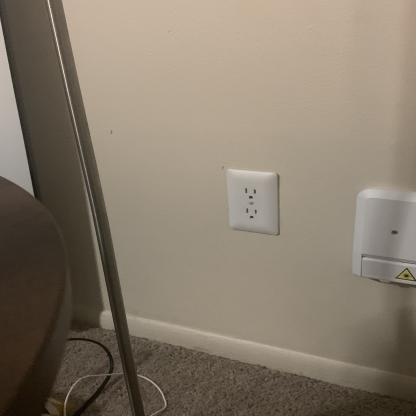OUTLET: (224, 168, 282, 235)
